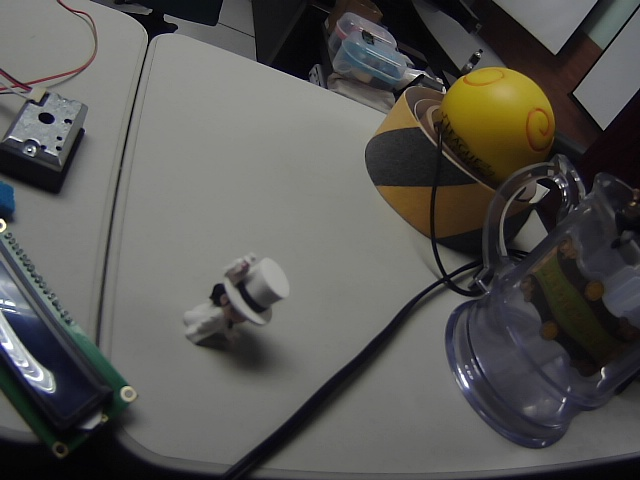lucci: (177, 247, 309, 371)
